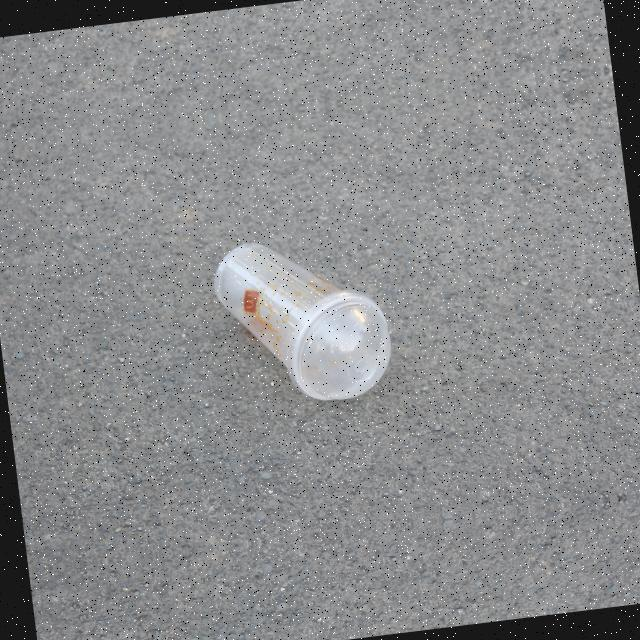Plastic: (206, 223, 400, 414)
